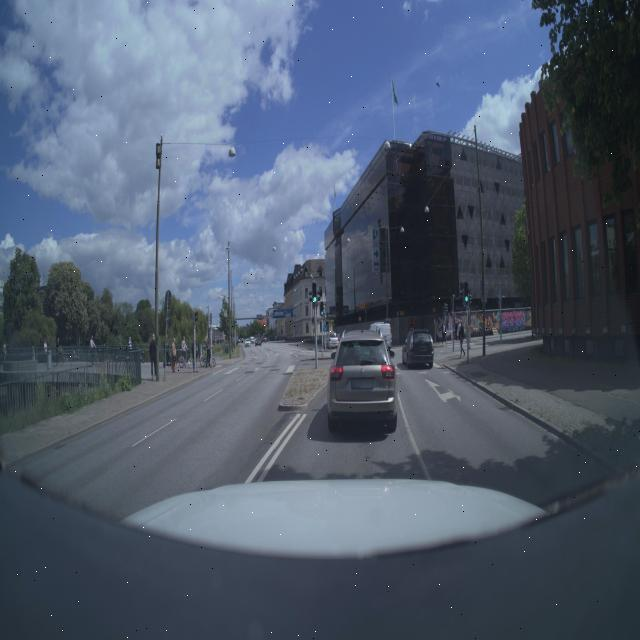green_light: (304, 278, 330, 324), (458, 274, 478, 316)
